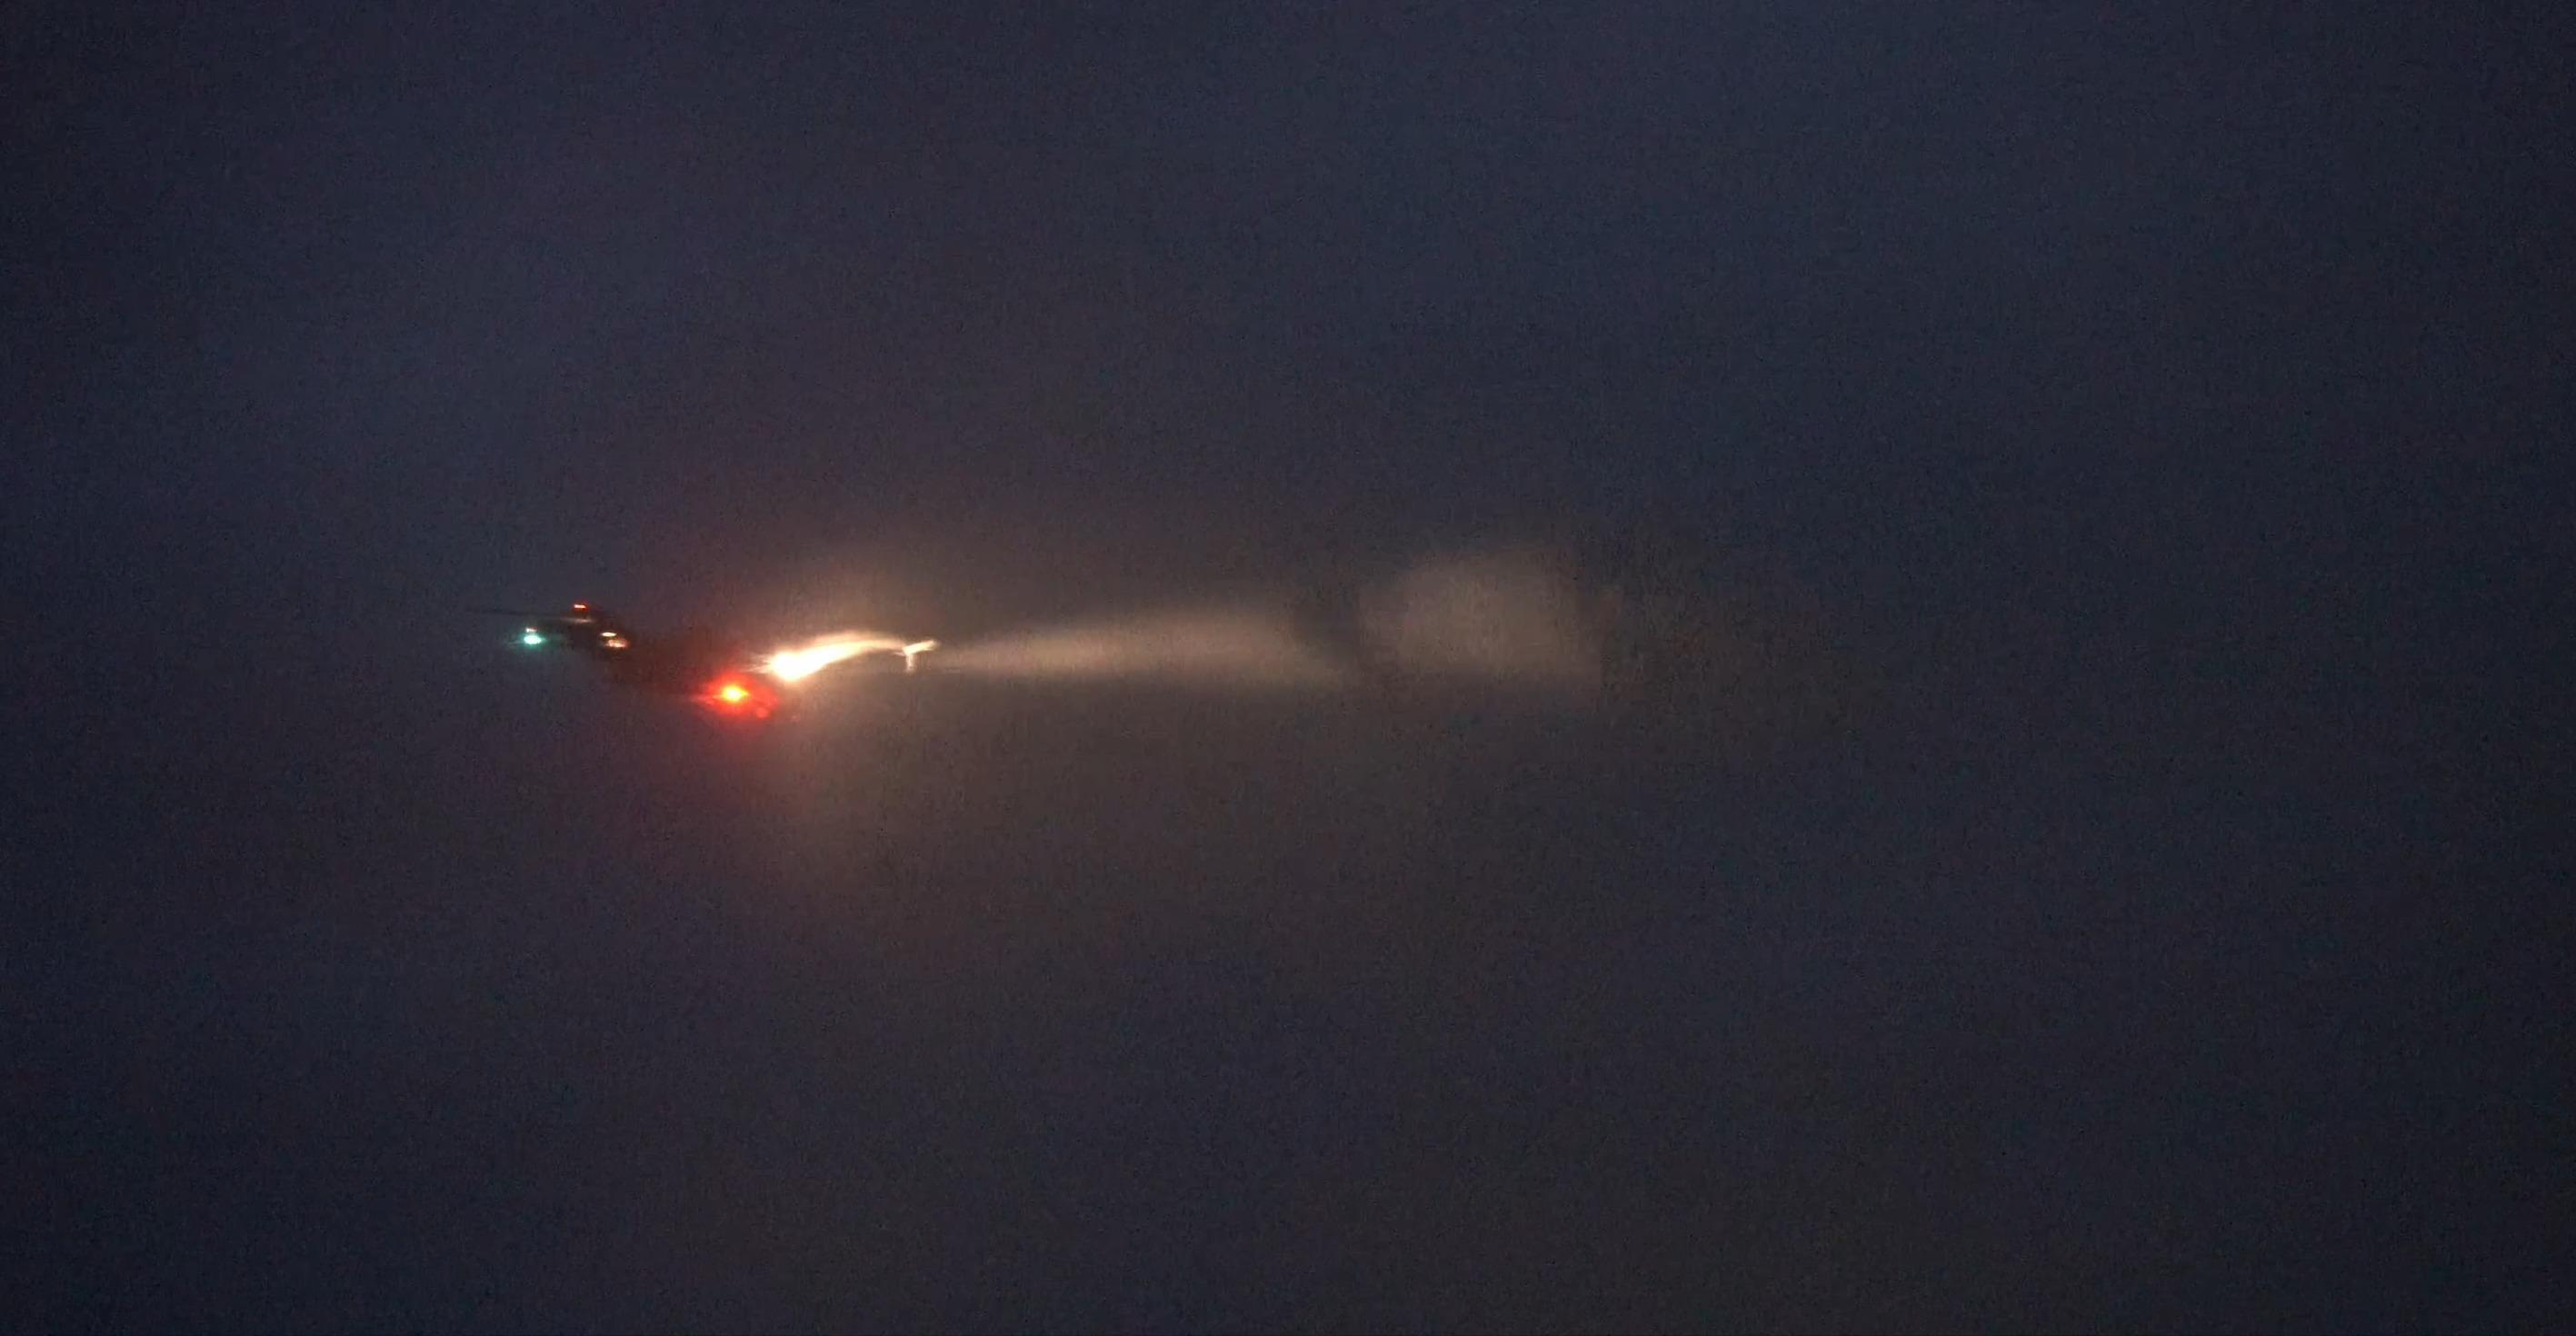Plane: (479, 583, 978, 753)
